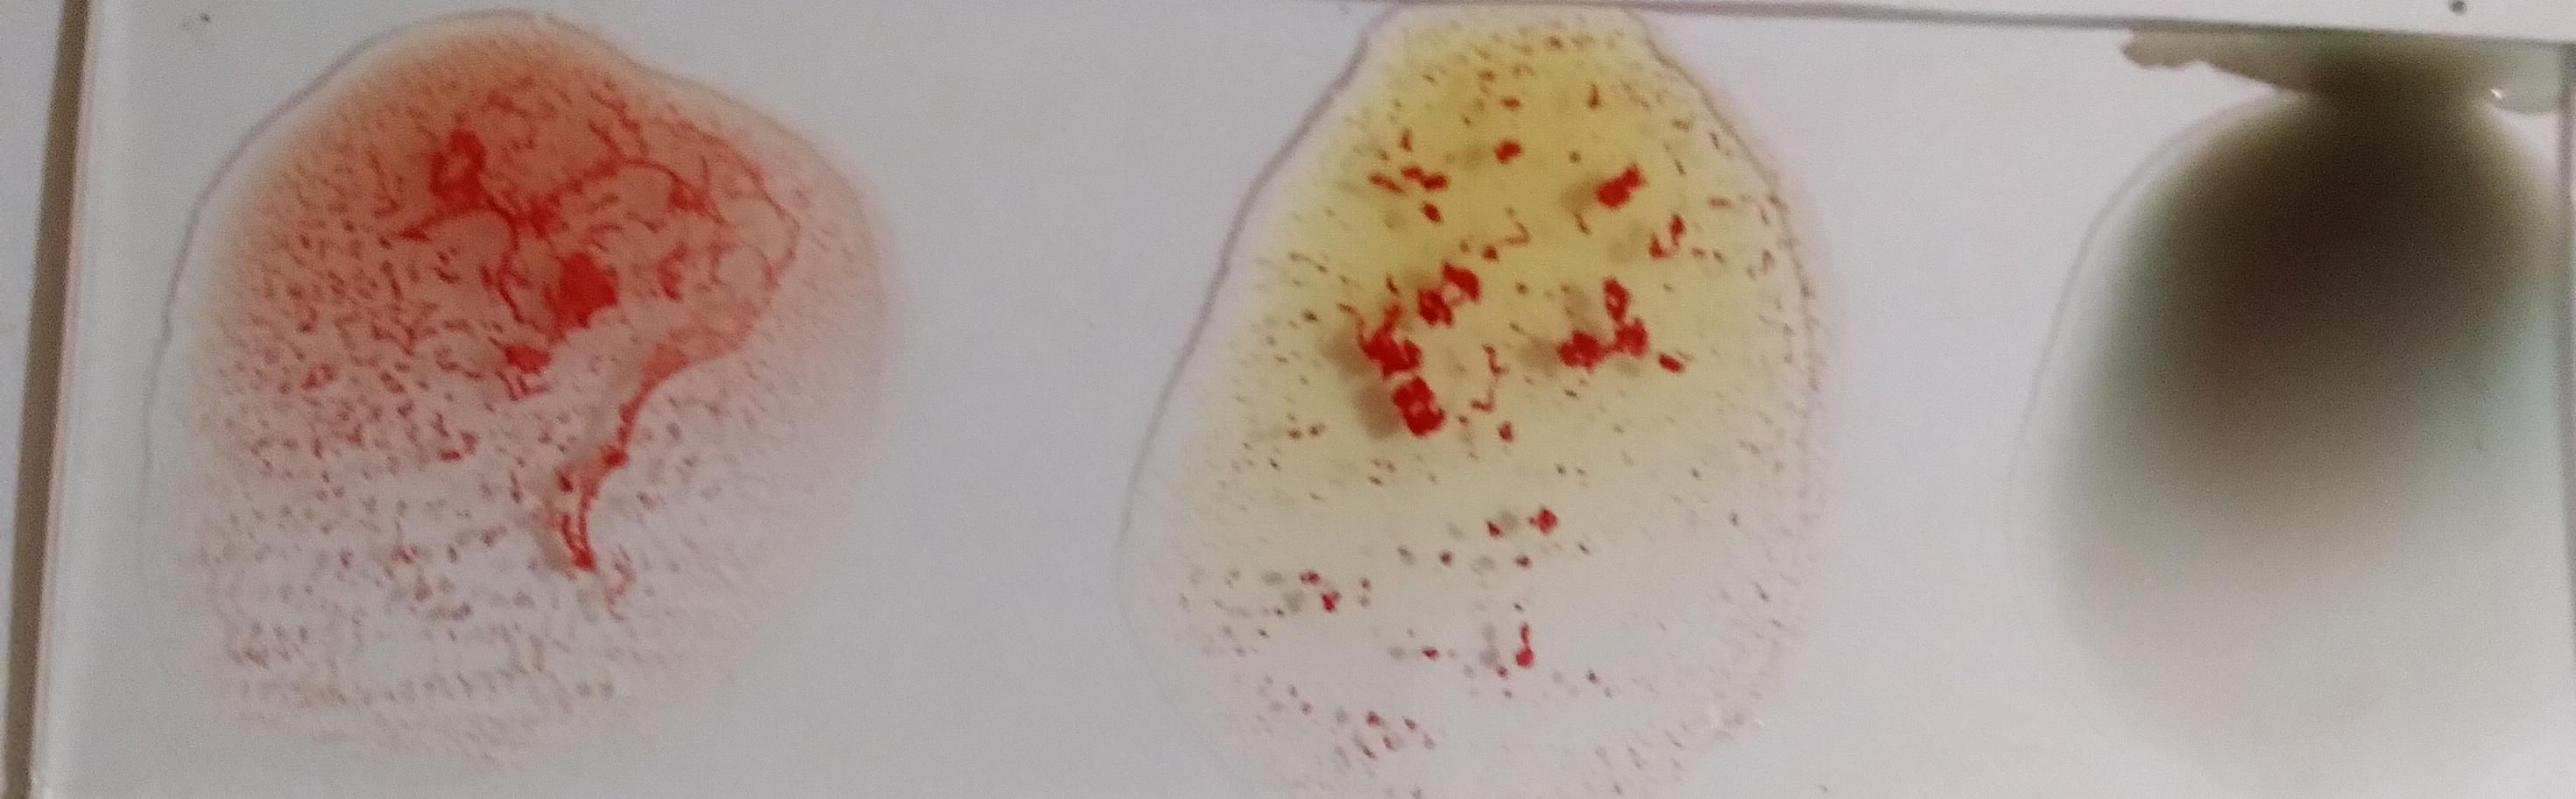B: (1186, 28, 1828, 789)
D: (186, 58, 803, 732)
